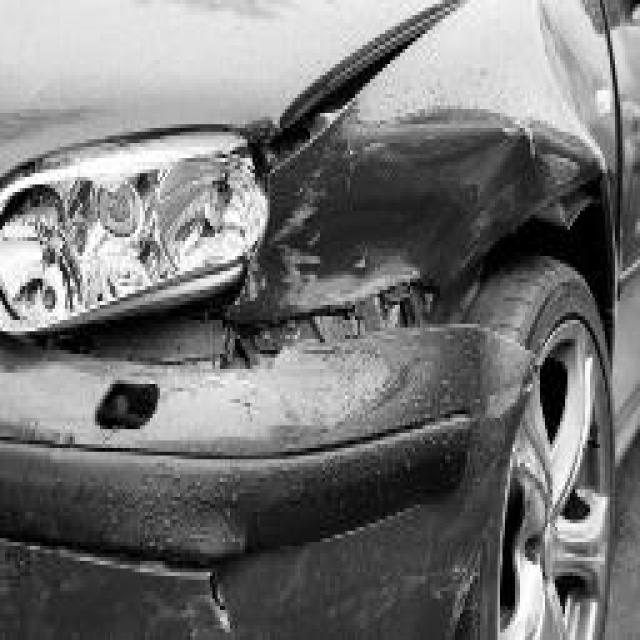Bumper: (0, 286, 535, 640)
Fender: (230, 0, 616, 332)
Light: (0, 127, 267, 347)
